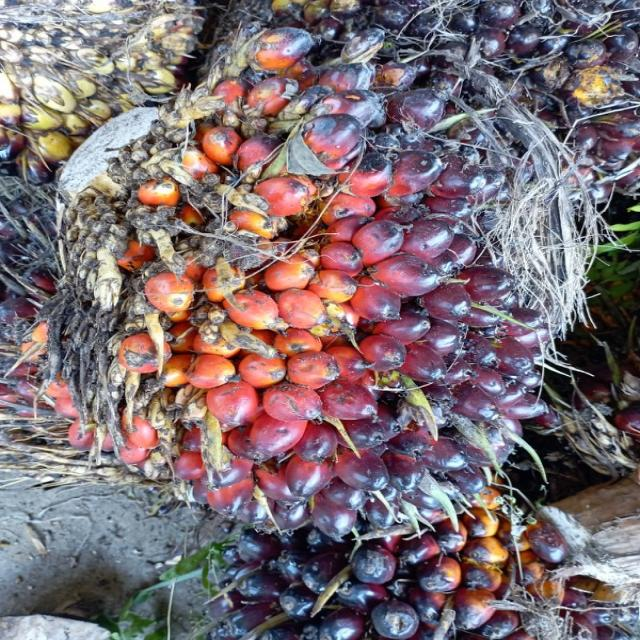fraksi 3: (76, 55, 547, 558)
